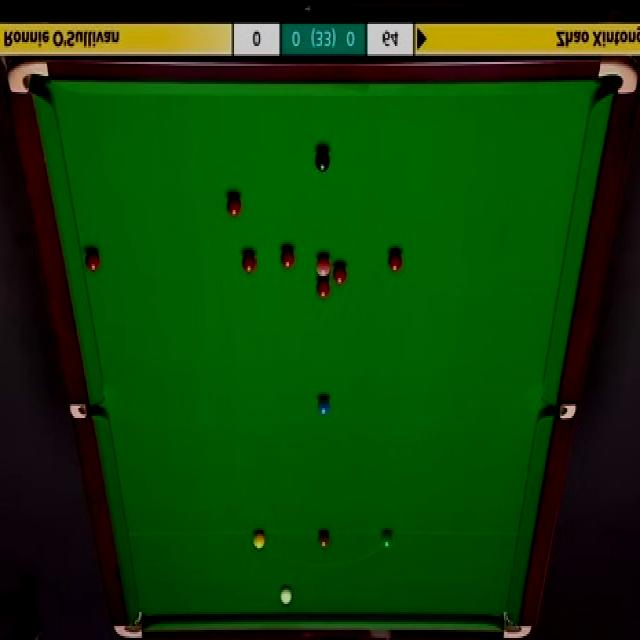black-ball: (316, 150, 332, 173)
blue-ball: (316, 396, 331, 418)
brown-ball: (317, 530, 331, 549)
green-ball: (381, 529, 394, 550)
pink-ball: (315, 253, 332, 278)
red-ball: (225, 194, 242, 219), (279, 246, 296, 270), (332, 262, 348, 286), (85, 250, 102, 272), (388, 248, 403, 272), (242, 250, 256, 274), (316, 279, 331, 300)
white-ball: (279, 587, 294, 608)
yellow-ball: (252, 531, 266, 552)
